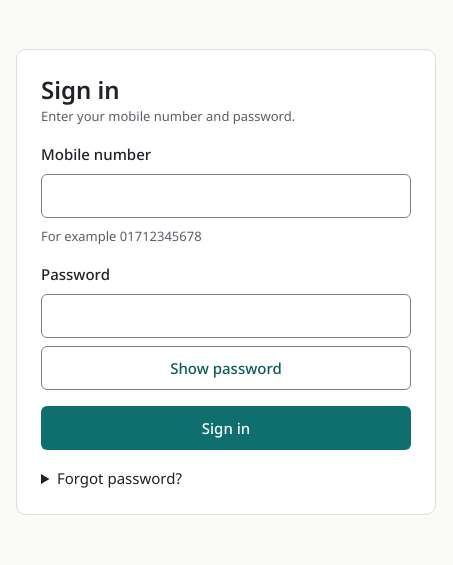
Test: LoginPage › rejects a wrong password before any code is sent
Type "+8801712345678" into the field labelled "Mobile number" at [226, 196], box [41,174,411,218]
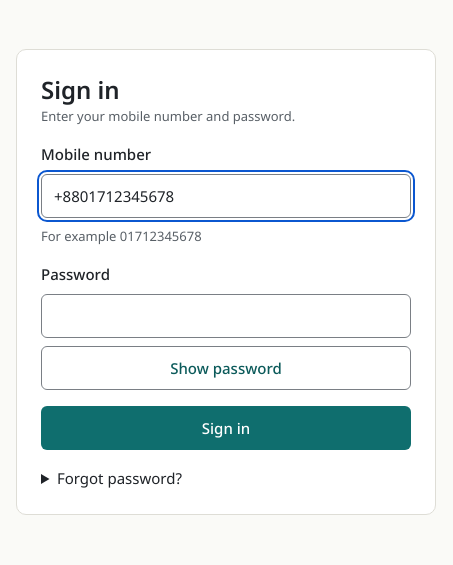
Type "wrong-password" into the password field labelled "Password" at [226, 316], box [41,294,411,338]
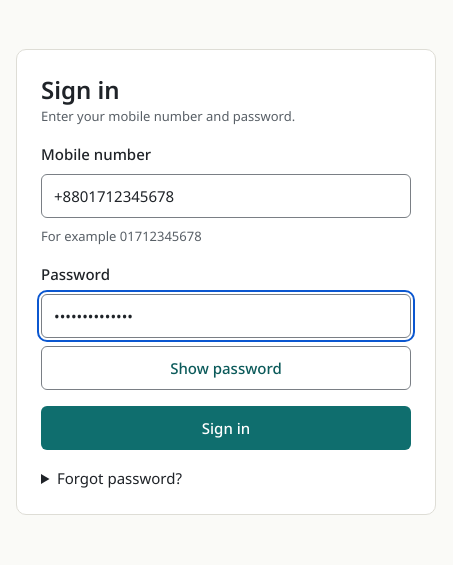
Click the button "Sign in" at [226, 428], box [41,406,411,450]
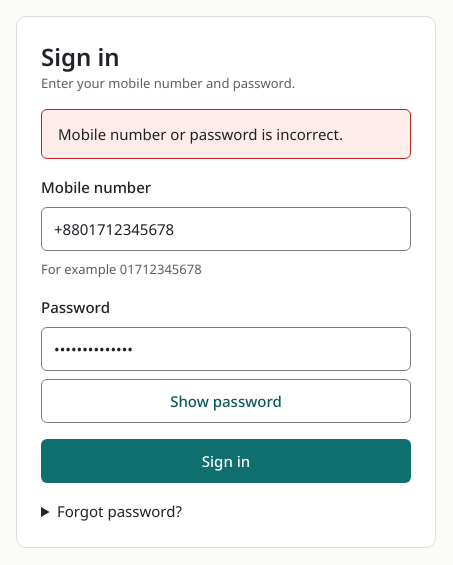
Result: the message shows "incorrect" at [58,124,343,144]
